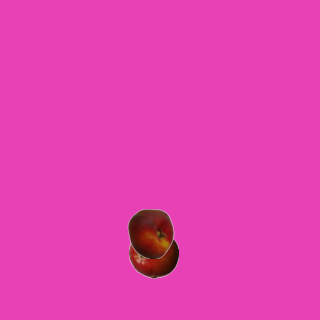Apple Braeburn: (128, 228, 178, 278)
Nectarine Flat: (125, 208, 175, 258)
